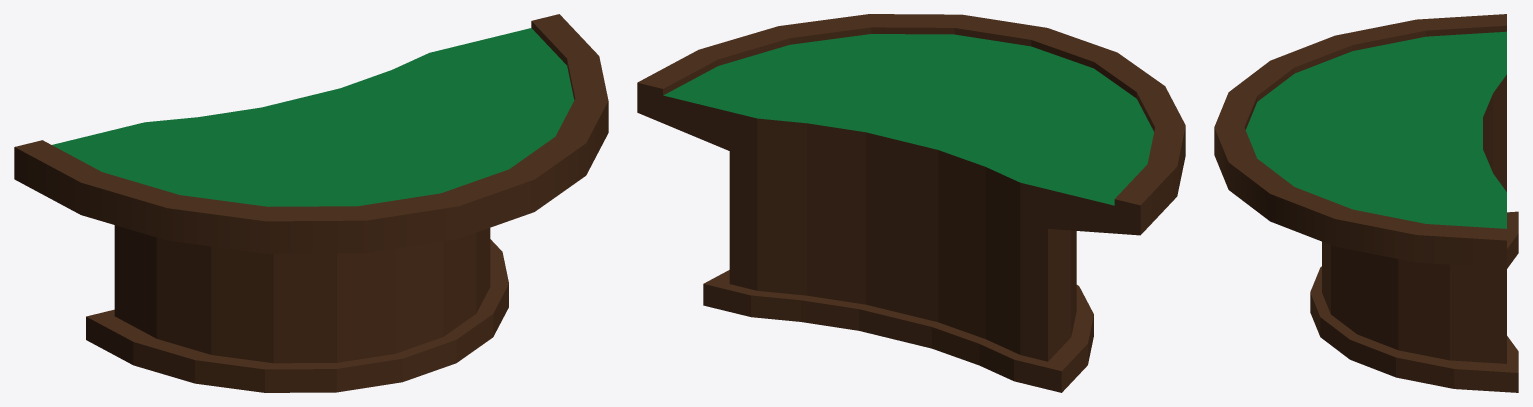
The model's file is blackjack_table.fbx.
3 views of the same model, side by side, from view 1: azimuth 30°, elevation 25°; view 2: azimuth 150°, elevation 25°; view 3: azimuth 270°, elevation 25° (orthographic). The views are drawn at different scales.
Parts seen in each view (by area): view 1: Blackjack_Table; view 2: Blackjack_Table; view 3: Blackjack_Table.
Boxes of the visible parts, left/top/right/bottom form: Blackjack_Table: left=14, top=14, right=608, bottom=392; Blackjack_Table: left=637, top=14, right=1185, bottom=392; Blackjack_Table: left=1214, top=14, right=1518, bottom=392.
Size of the model in its own units: 3.21 by 1.22 by 1.82.
